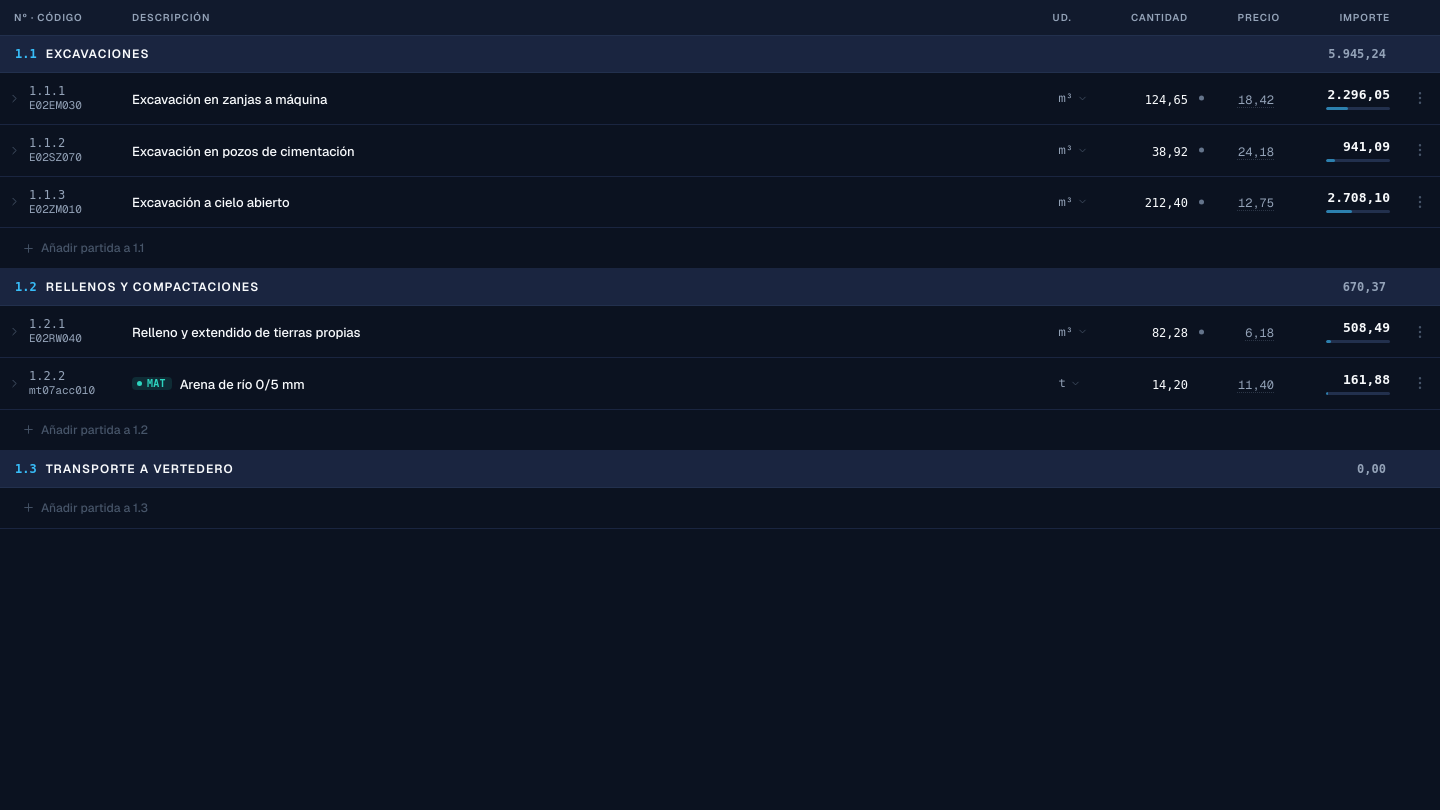
Test: menú ⋮ — Subir / Bajar (vía táctil y de teclado) › Subir queda deshabilitado en la primera del grupo (y Bajar en la última)
Click the button titled "Más acciones" in the row of "1.1.1".
click(1419, 98)  # box [1406, 85, 1432, 111]
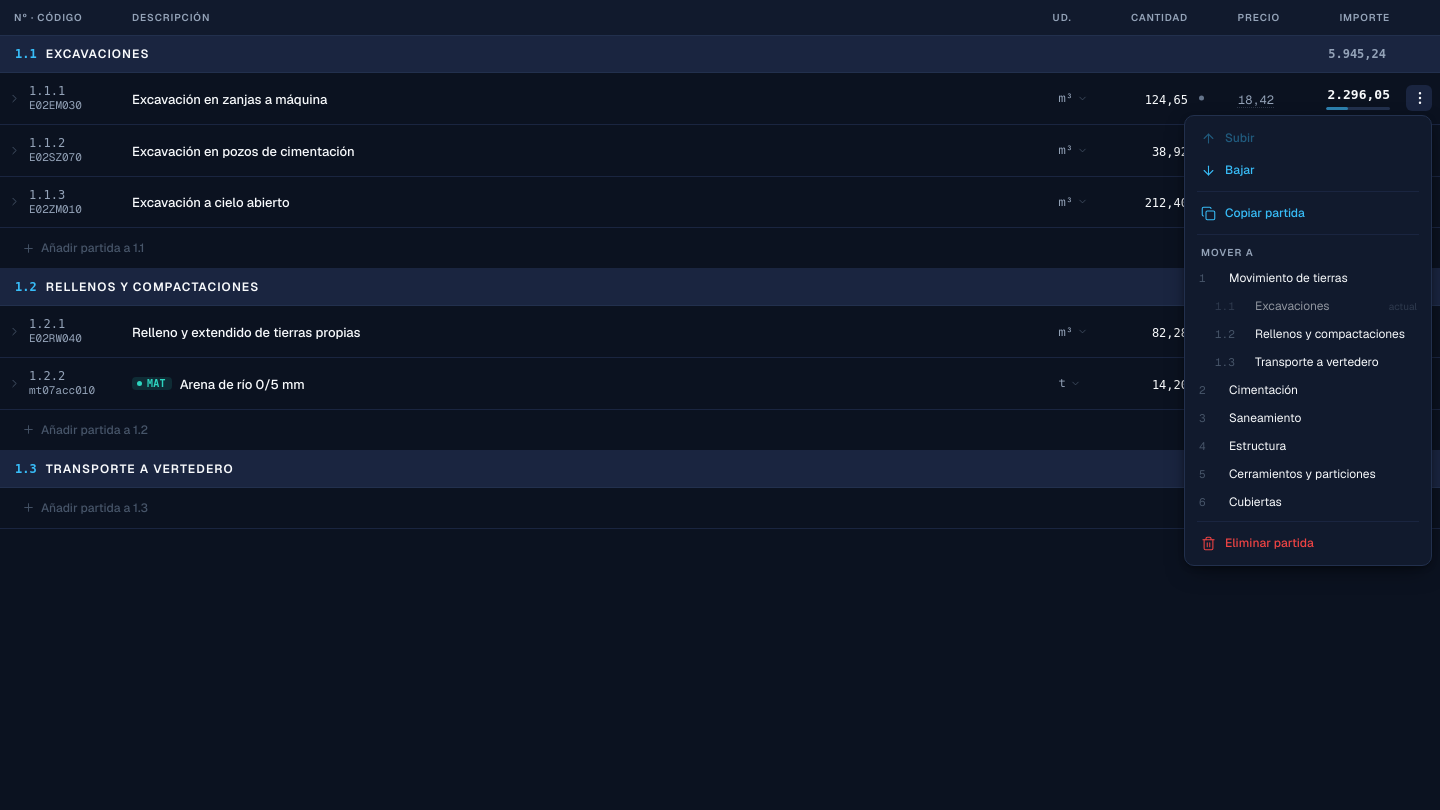
Expected: the button titled "Subir la partida una posición" is disabled, [1191, 122, 1425, 154]
Expected: the button titled "Bajar la partida una posición" is enabled, [1191, 154, 1425, 186]
Click the button titled "Más acciones".
click(1419, 98)  # box [1406, 85, 1432, 111]
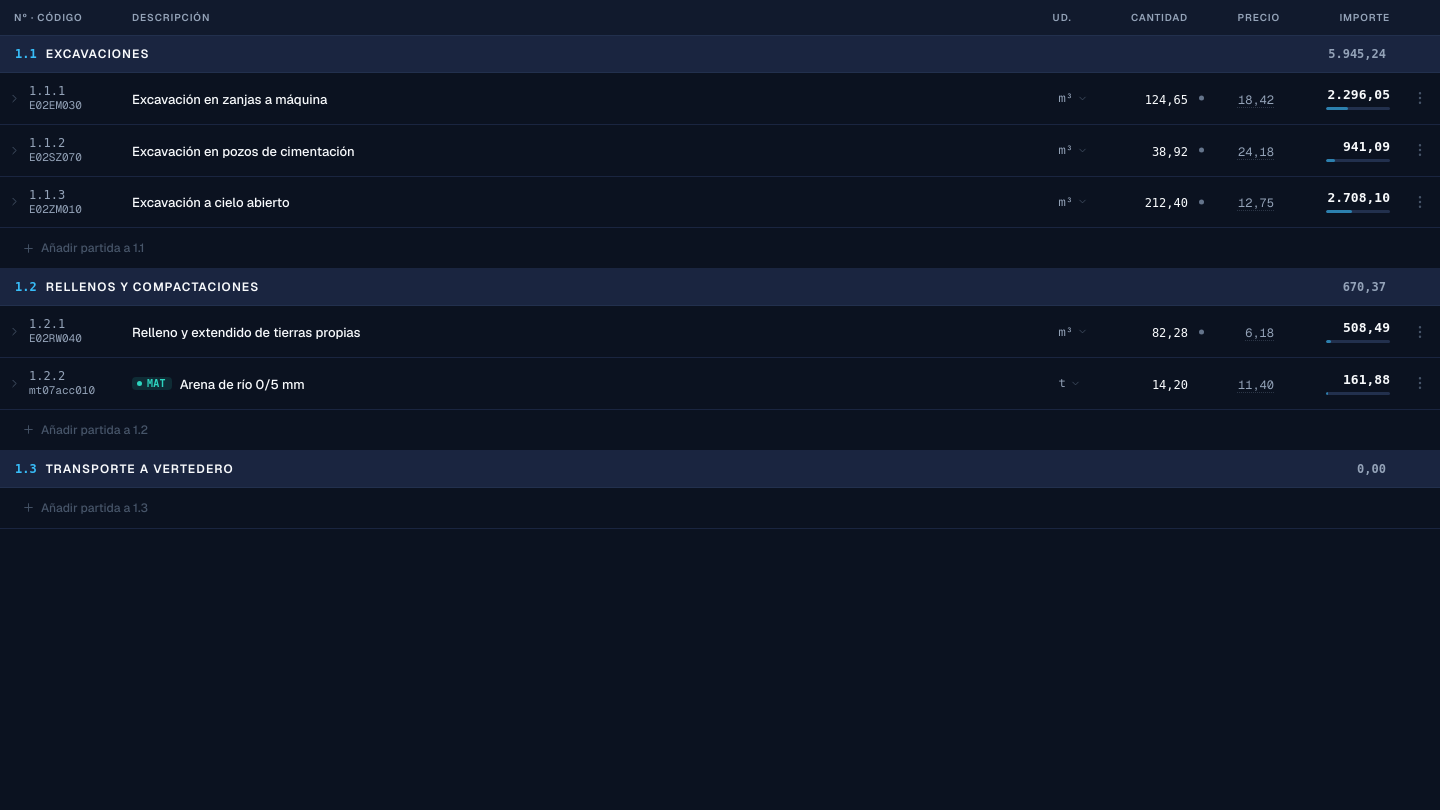
Click the button titled "Más acciones" in the row of "1.1.3".
click(1419, 202)  # box [1406, 189, 1432, 215]
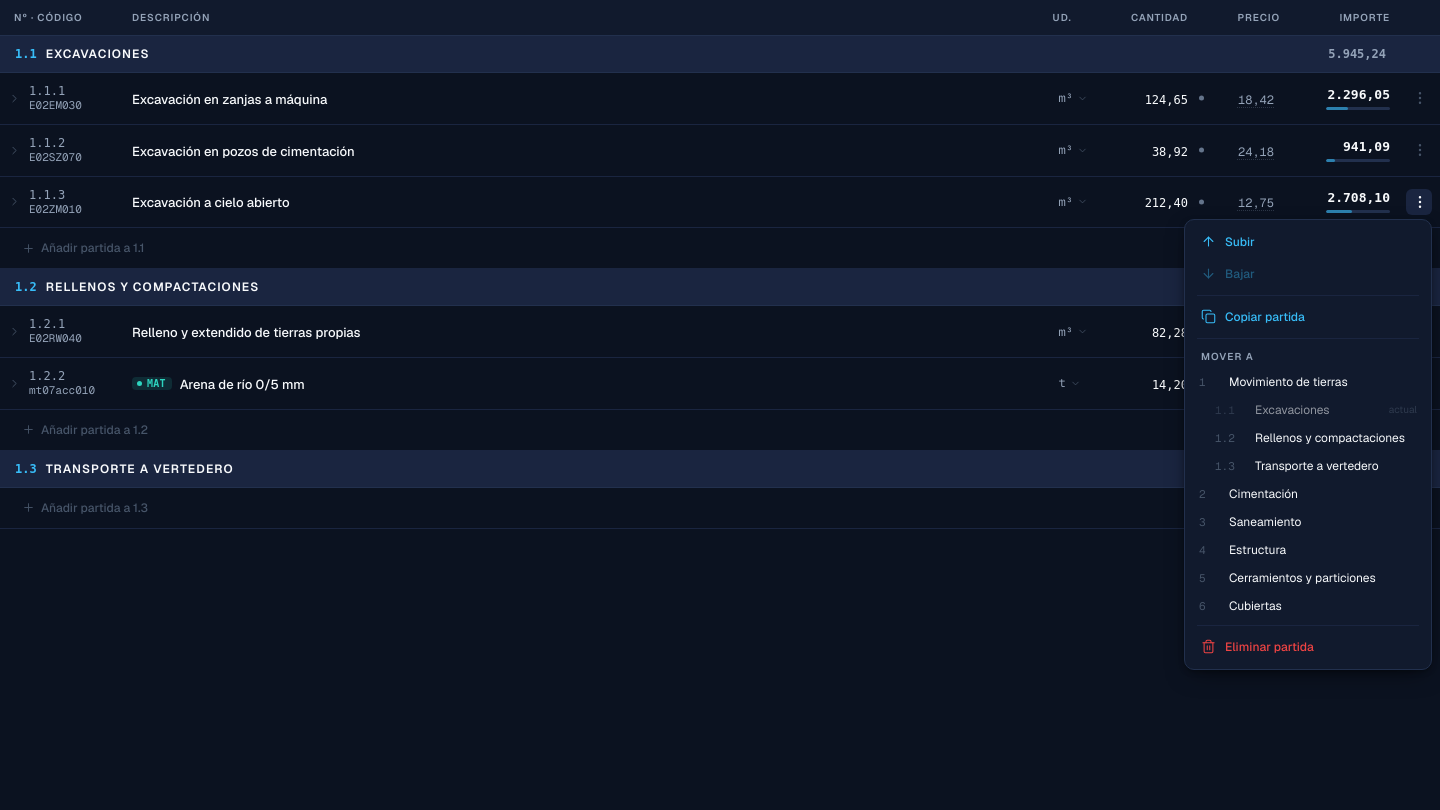
Expected: the button titled "Bajar la partida una posición" is disabled, [1191, 258, 1425, 290]
